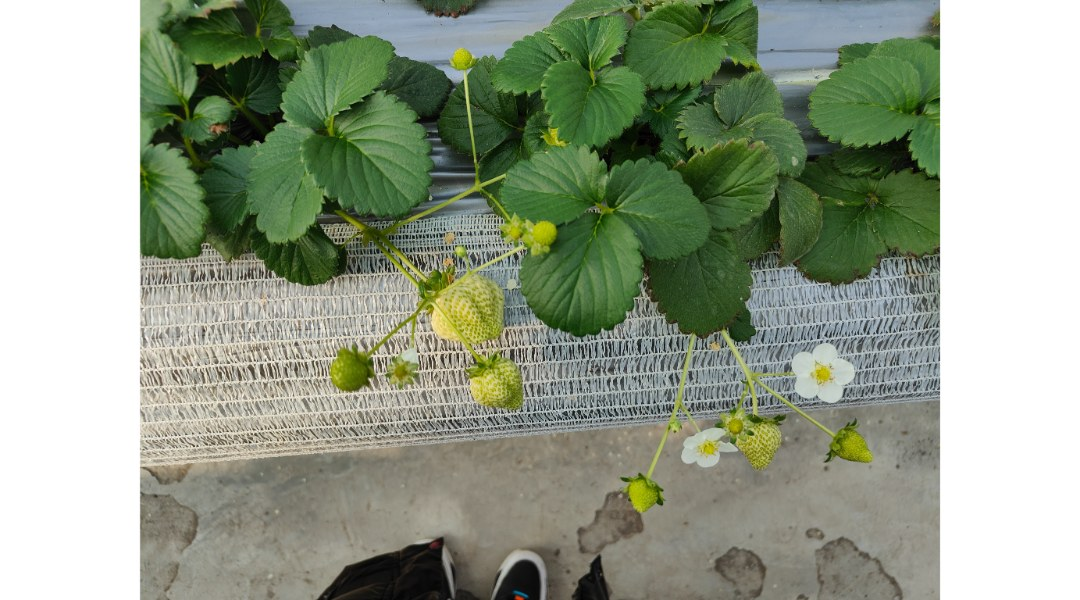berry: (428, 272, 510, 353), (464, 353, 530, 424), (730, 410, 790, 484), (321, 348, 373, 402), (826, 419, 871, 479), (618, 474, 668, 525), (521, 215, 557, 260), (382, 351, 419, 393), (445, 42, 477, 72)
flower: (789, 337, 857, 405), (675, 418, 736, 481)
strain: (399, 190, 469, 235), (670, 333, 697, 406), (641, 419, 670, 485), (721, 321, 752, 374), (461, 88, 479, 178)
